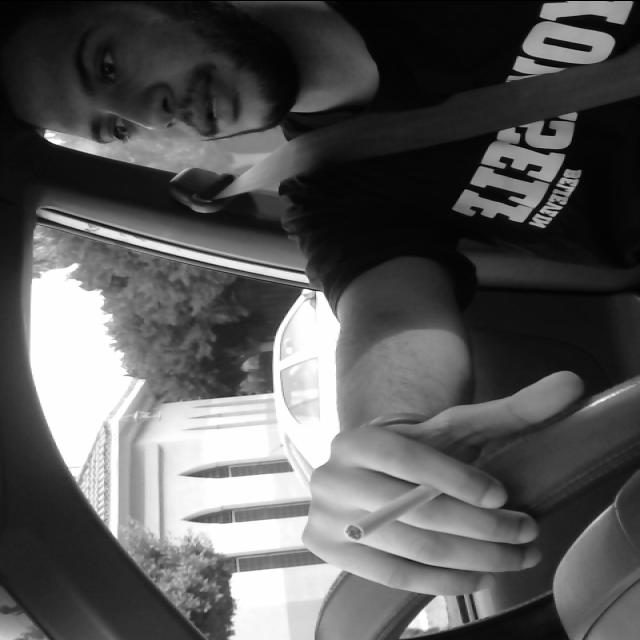smoking: (333, 462, 463, 546)
